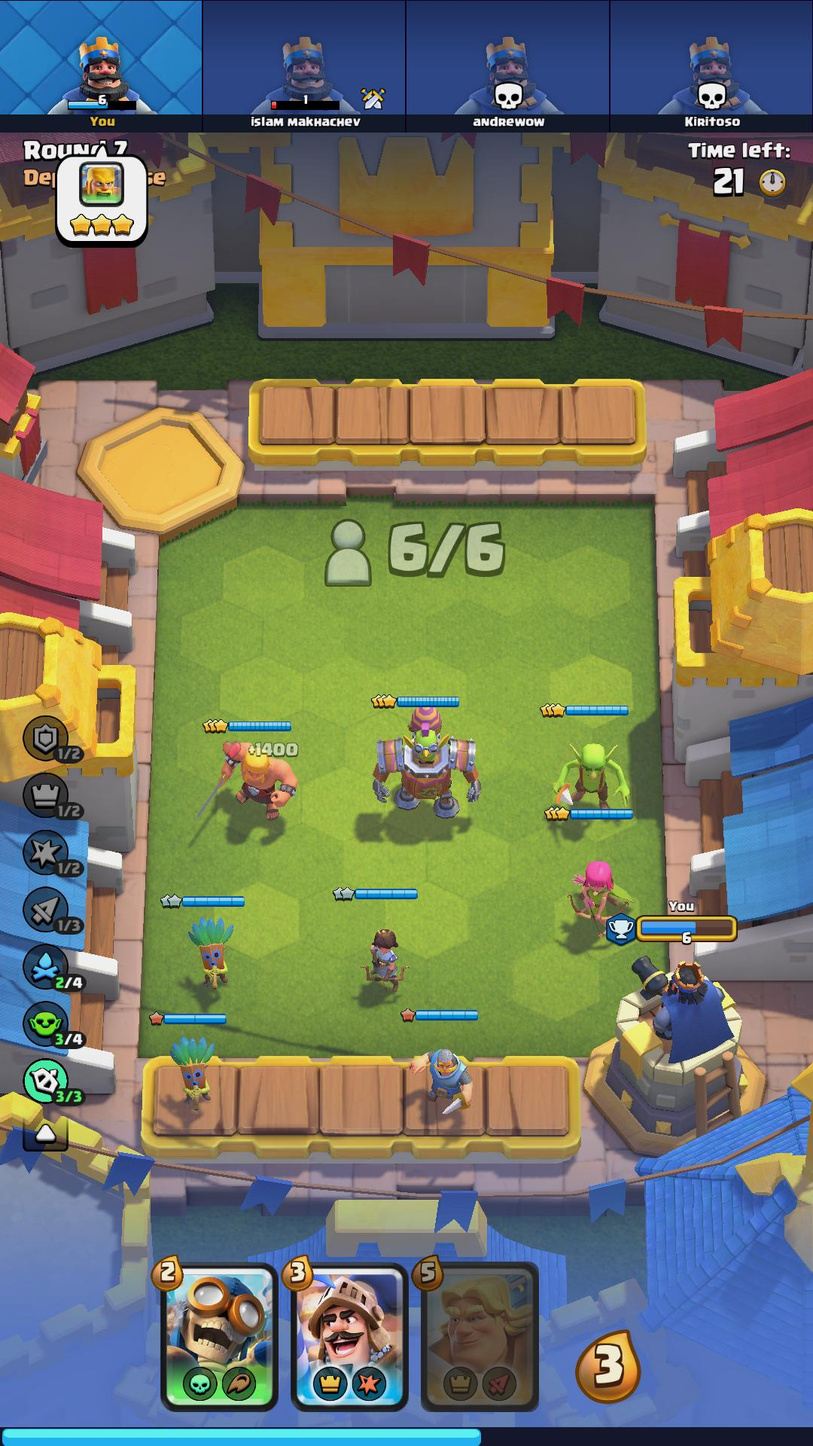archer: (567, 858, 633, 932)
barbarian: (220, 739, 298, 823)
dart: (159, 1031, 220, 1114), (177, 912, 241, 988)
goblin: (555, 738, 630, 813)
hand-bomber: (165, 1267, 275, 1405)
hand-golden: (424, 1262, 537, 1410)
hand-prince: (292, 1267, 406, 1407)
knight: (411, 1035, 476, 1116)
machine: (375, 707, 481, 822)
princess: (359, 926, 410, 997)
